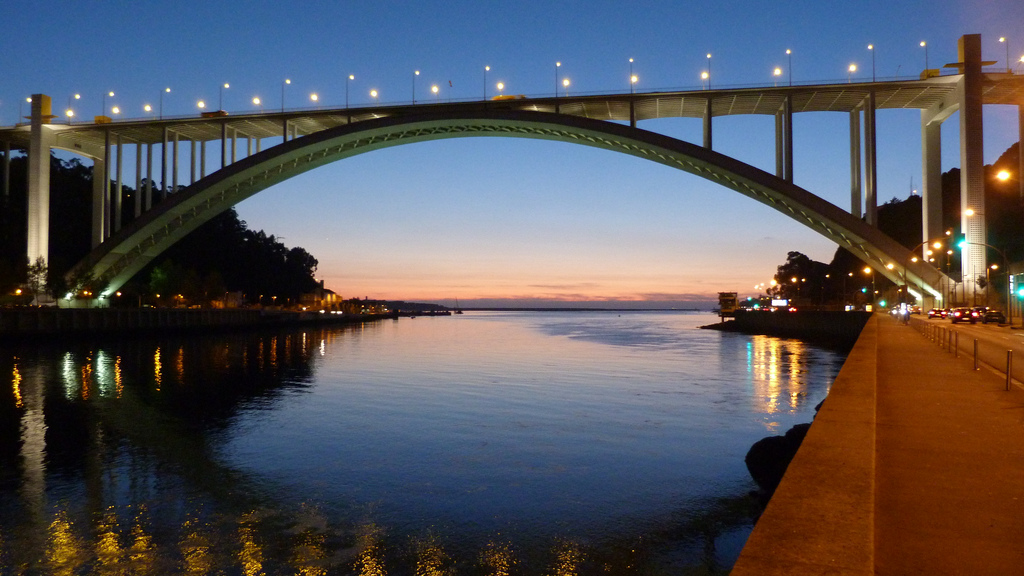arrabida: (0, 30, 1023, 309)
